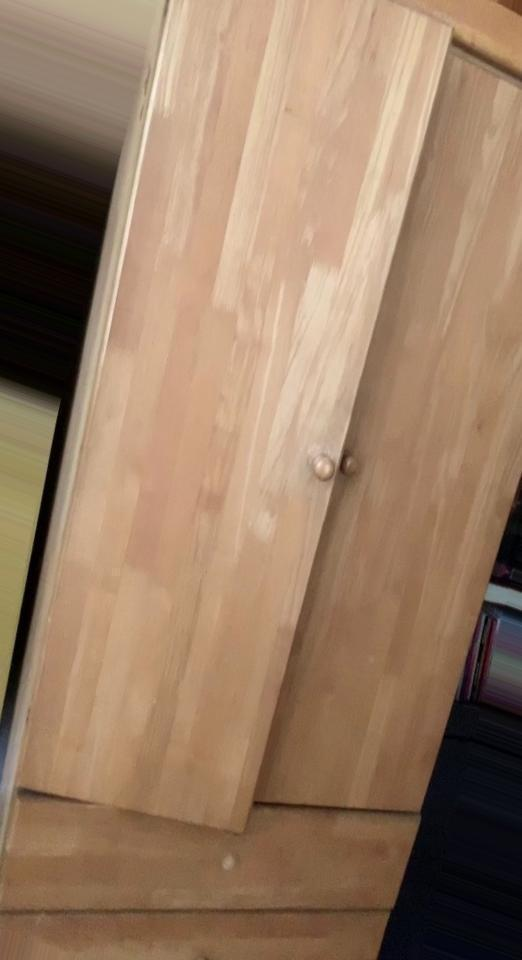Armario: (22, 5, 511, 944)
